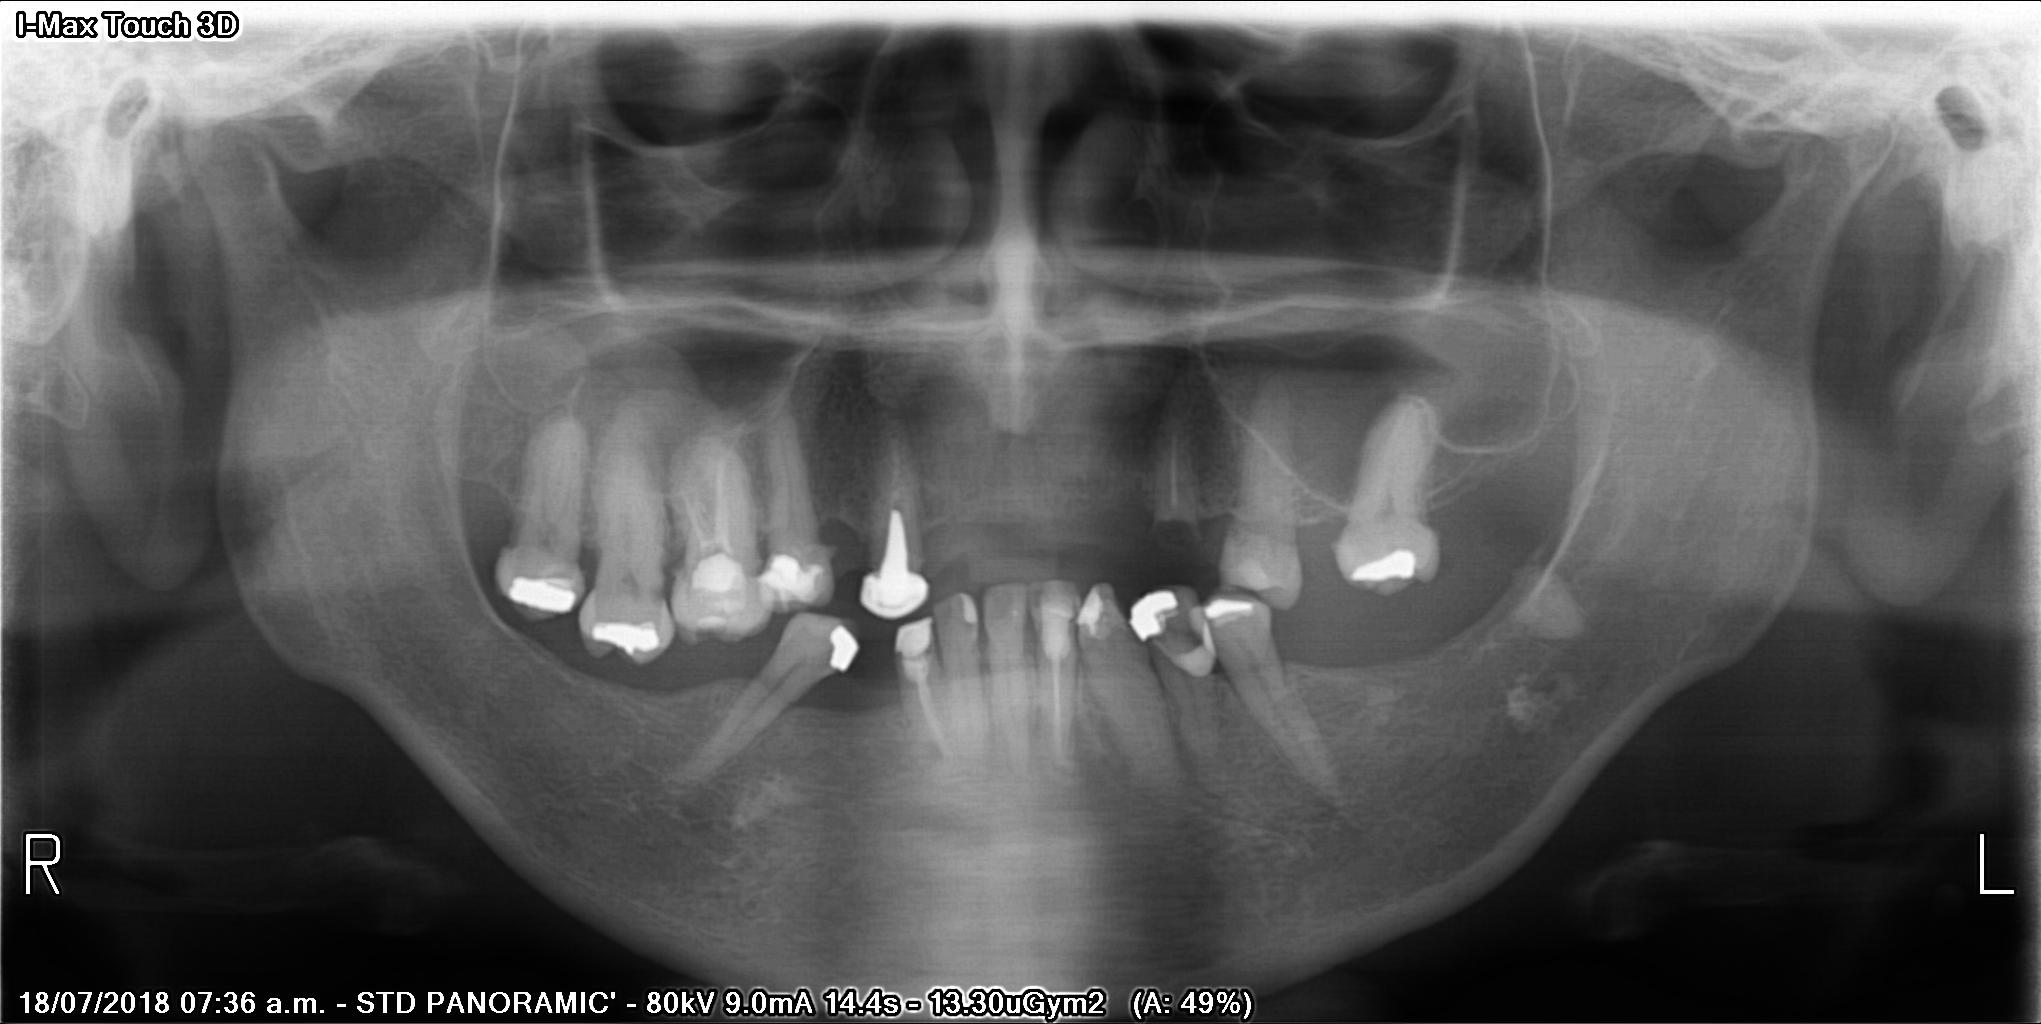Çürük: (859, 509, 927, 624), (578, 614, 662, 662), (501, 569, 581, 619), (1341, 545, 1418, 589), (760, 554, 827, 602), (682, 554, 750, 598), (1118, 589, 1180, 636), (883, 613, 938, 660), (823, 628, 868, 671), (1194, 597, 1256, 628), (1186, 633, 1217, 682), (955, 594, 982, 623)
Çürük Bölgesi: (1169, 579, 1204, 649), (679, 596, 743, 631), (1021, 585, 1041, 616)
